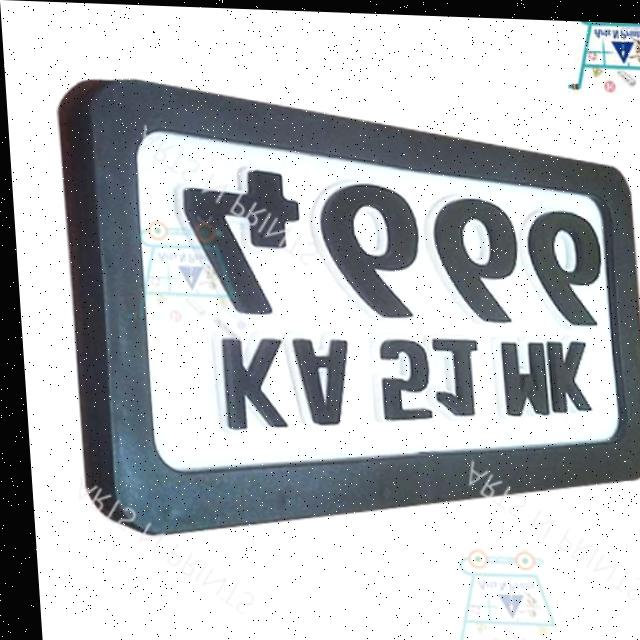plate: (50, 71, 640, 549)
